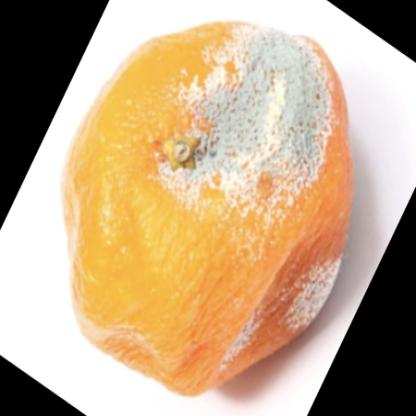rotten: (64, 24, 358, 392)
